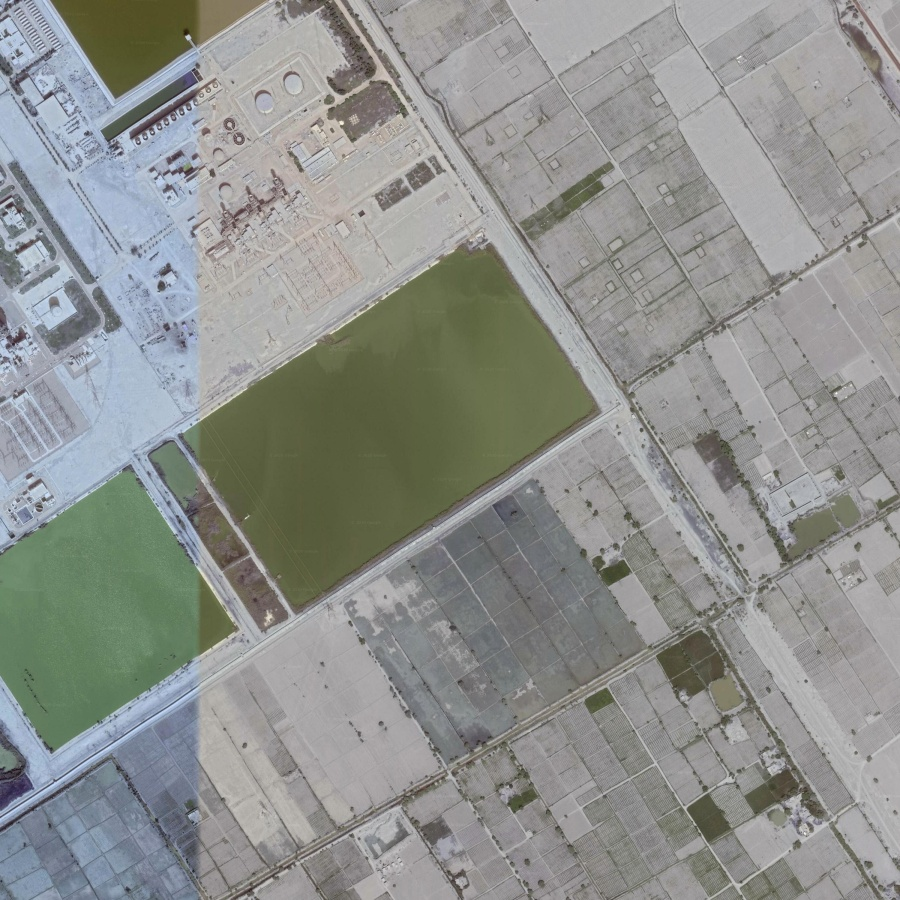PowerPlant: (148, 72, 343, 266)
